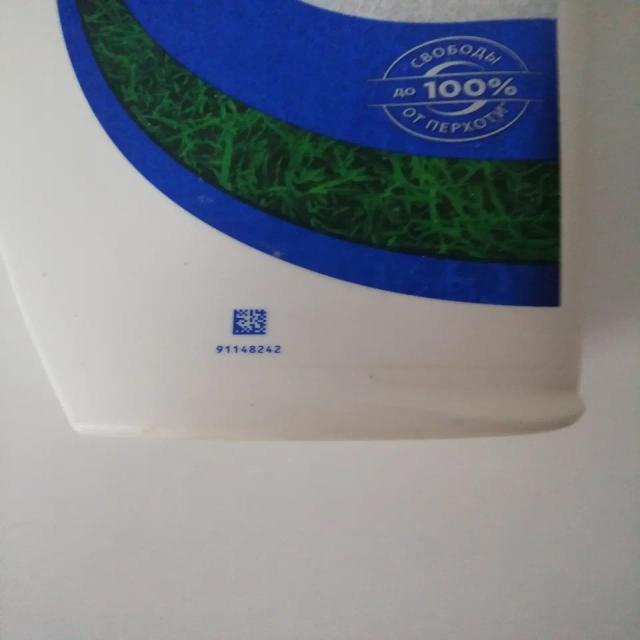datamatrix: (232, 308, 271, 338)
